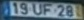1: (12, 2, 18, 14)
2: (56, 4, 65, 17)
8: (65, 5, 73, 17)
9: (19, 2, 28, 14)
F: (43, 3, 52, 16)
U: (32, 3, 42, 16)
